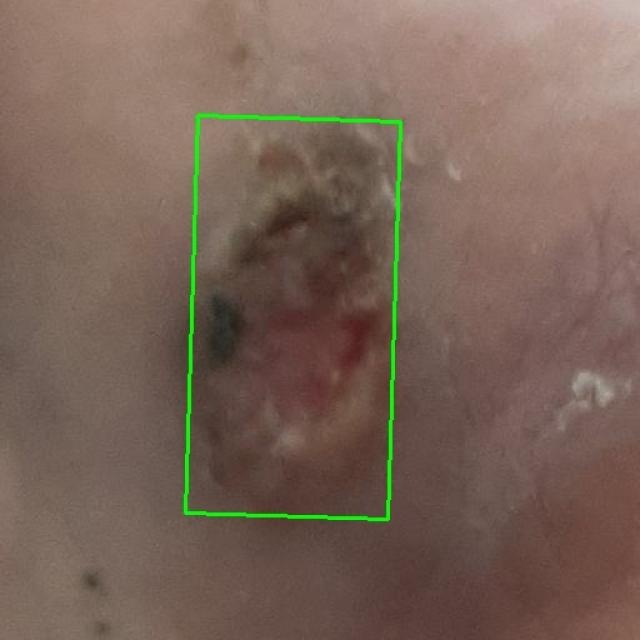Eczema: (185, 116, 400, 519)
